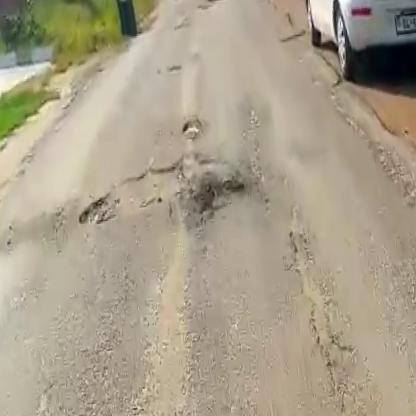pothole: (67, 154, 219, 228), (188, 168, 251, 226), (180, 118, 205, 142)
